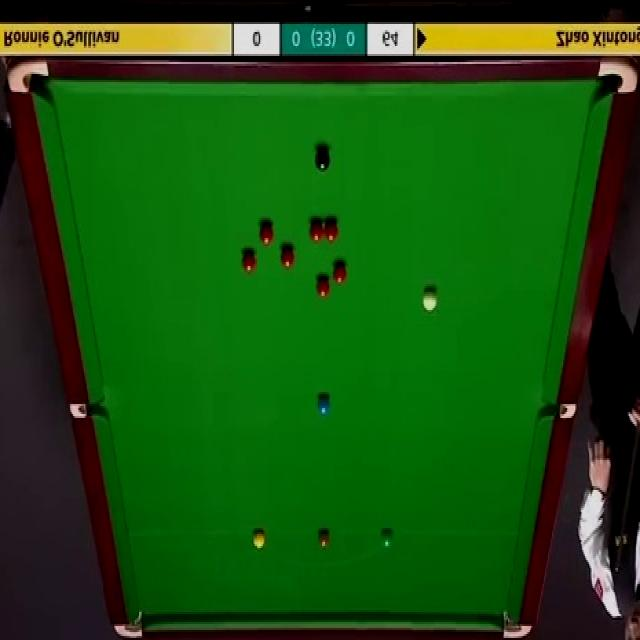black-ball: (314, 150, 331, 172)
blue-ball: (318, 396, 331, 416)
brown-ball: (316, 530, 329, 550)
green-ball: (381, 529, 394, 548)
red-ball: (331, 261, 348, 286), (308, 219, 325, 244), (278, 246, 295, 271), (324, 219, 339, 244), (258, 222, 274, 245), (240, 252, 256, 274), (316, 277, 330, 298)
white-ball: (422, 288, 438, 311)
yellow-ball: (254, 532, 265, 550)
